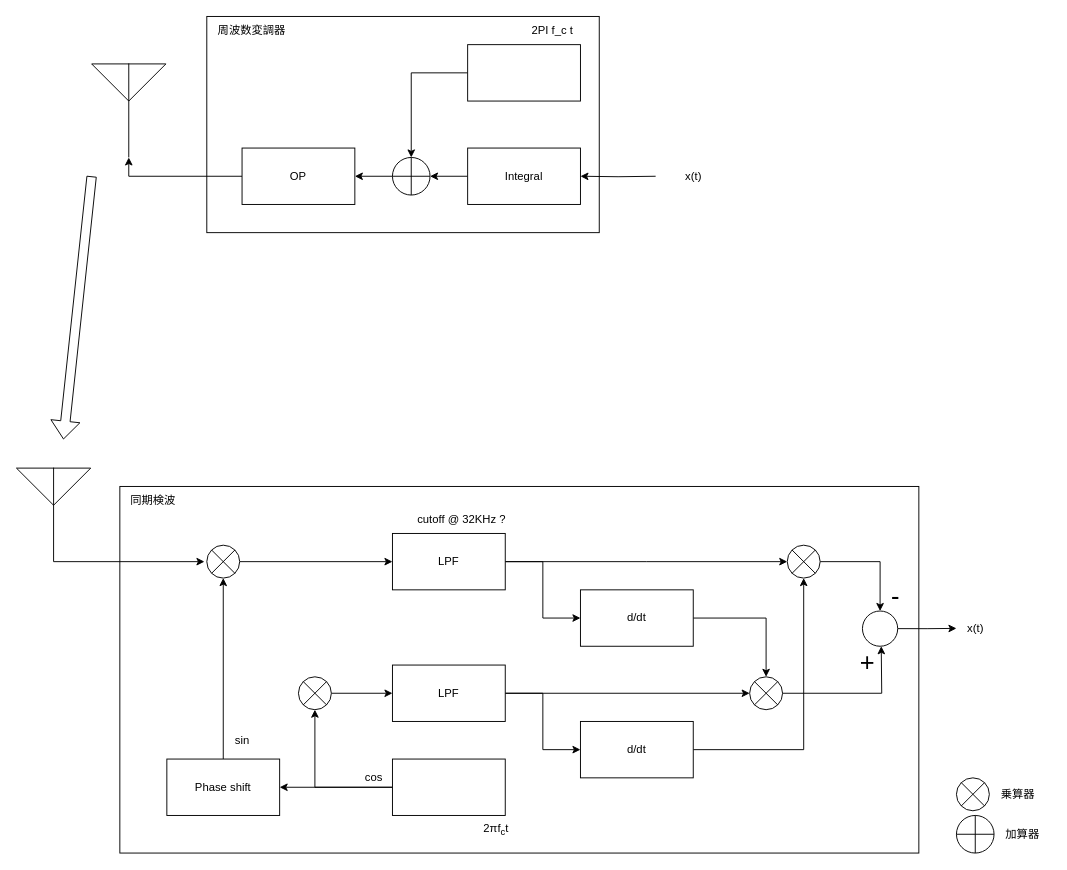
Some shapes in this 1067 by 870 pixel diagram are drawn without their labels. The centre of each missing label's shape, as x and y in pixels:
"OSC" belongs at point (448, 786).
"Phase Generate" belongs at point (523, 72).
